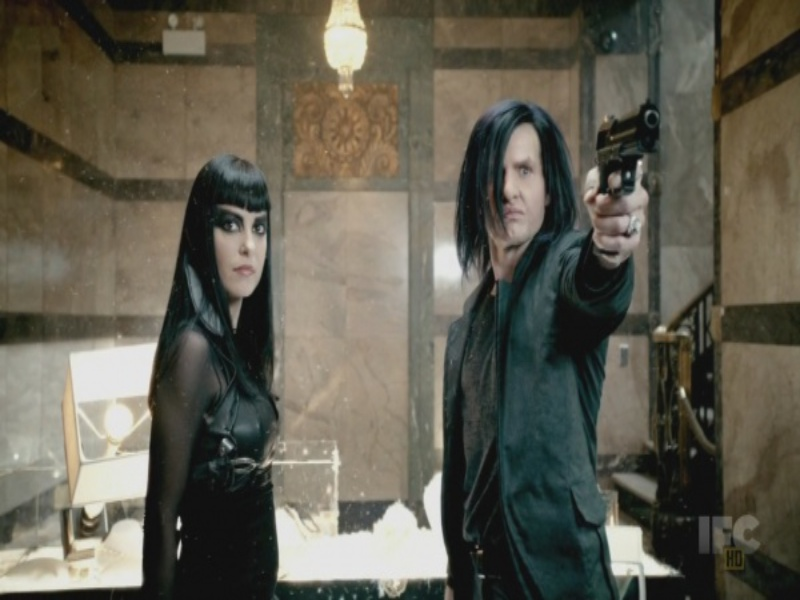person: (450, 100, 641, 595), (145, 159, 276, 594)
weapon: (596, 104, 662, 192)
